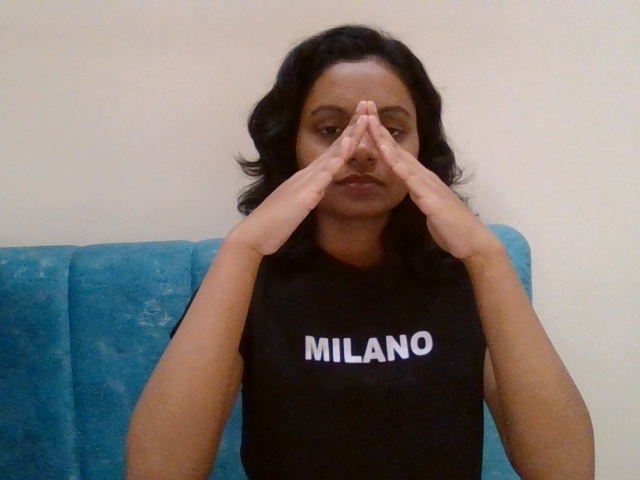House: (191, 97, 534, 312)
